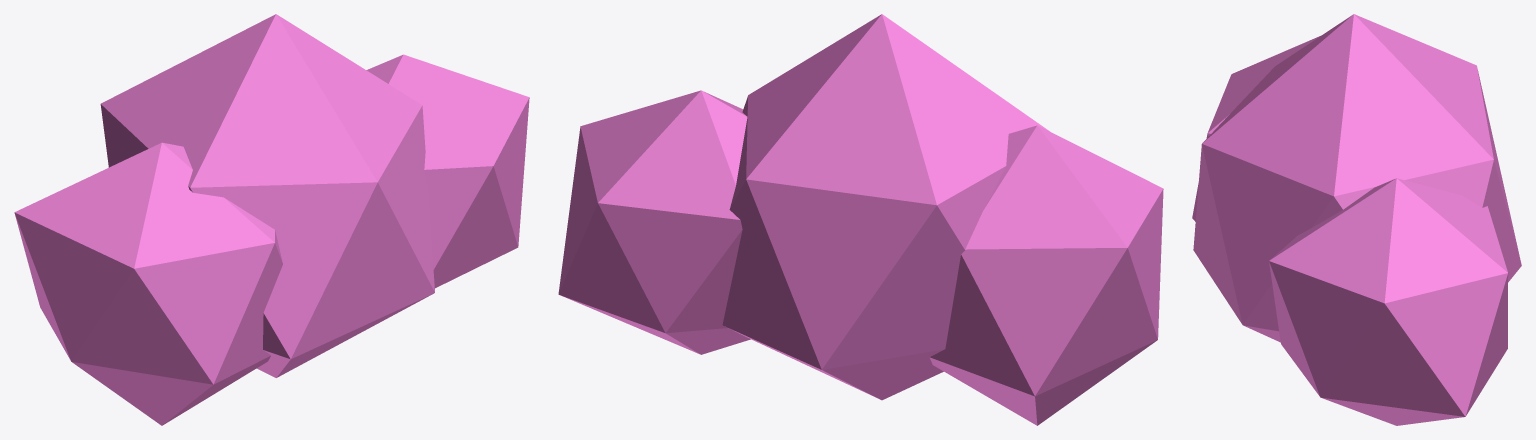
The model's file is Street_Bush.fbx.
3 renders of one model, left to right at view 1: azimuth 30°, elevation 25°; view 2: azimuth 150°, elevation 25°; view 3: azimuth 270°, elevation 25°, orthographic. The views are drawn at different scales.
Visible parts, largest first — view 1: Bush; view 2: Bush; view 3: Bush.
Boxes of the visible parts, x1=… form: Bush: x1=14, y1=14, x2=529, y2=425; Bush: x1=558, y1=14, x2=1163, y2=425; Bush: x1=1192, y1=14, x2=1521, y2=425.
Bounding box in the file's own units: 5.54 × 3.78 × 3.09.
1 material, 1 textured.
